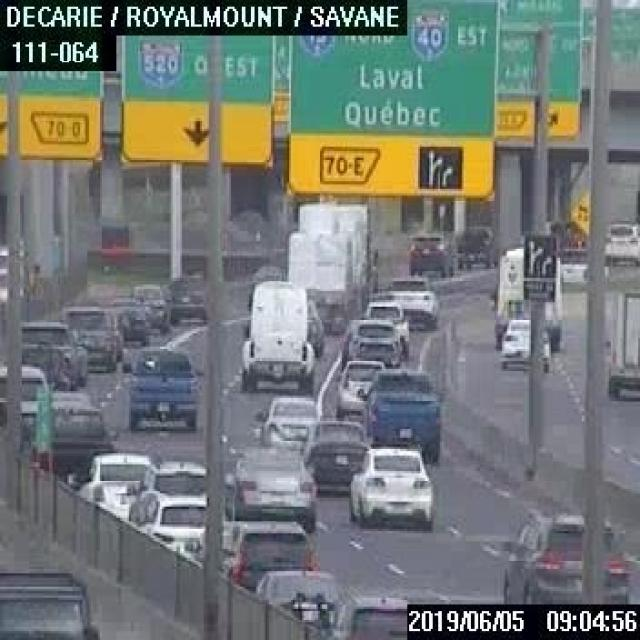vehicle: (494, 509, 630, 602), (282, 201, 373, 333), (240, 276, 313, 392), (357, 369, 442, 462), (0, 564, 100, 638), (345, 444, 435, 526), (231, 444, 316, 530), (32, 401, 115, 489), (492, 246, 562, 349), (223, 520, 312, 600), (117, 348, 201, 432), (67, 454, 155, 526), (125, 492, 204, 560), (254, 566, 338, 628), (19, 316, 86, 389), (300, 419, 366, 493), (56, 305, 117, 372), (604, 280, 638, 398), (325, 594, 415, 638), (0, 358, 51, 424), (127, 460, 206, 502), (380, 274, 439, 329), (255, 395, 318, 445), (334, 357, 386, 417), (340, 316, 398, 368), (500, 314, 552, 368), (363, 300, 410, 354), (163, 272, 208, 324), (102, 297, 150, 344), (405, 233, 453, 275), (126, 283, 169, 329), (455, 224, 497, 266), (604, 216, 638, 266)
